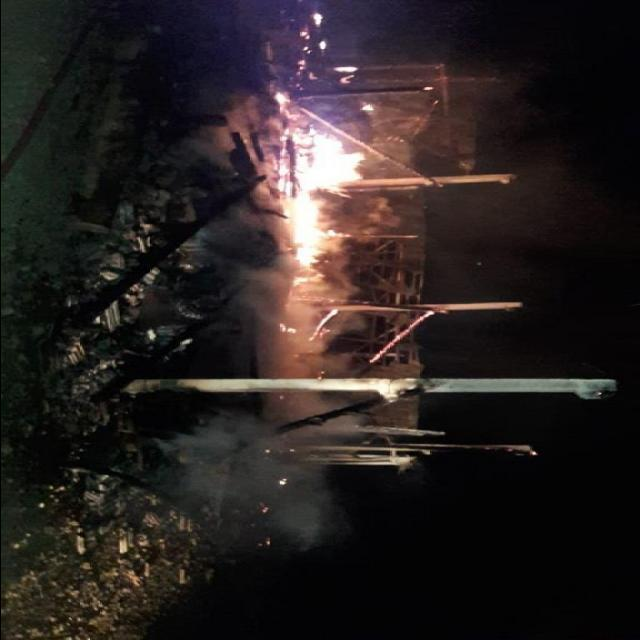Fire: (279, 130, 370, 284), (273, 91, 297, 113)
